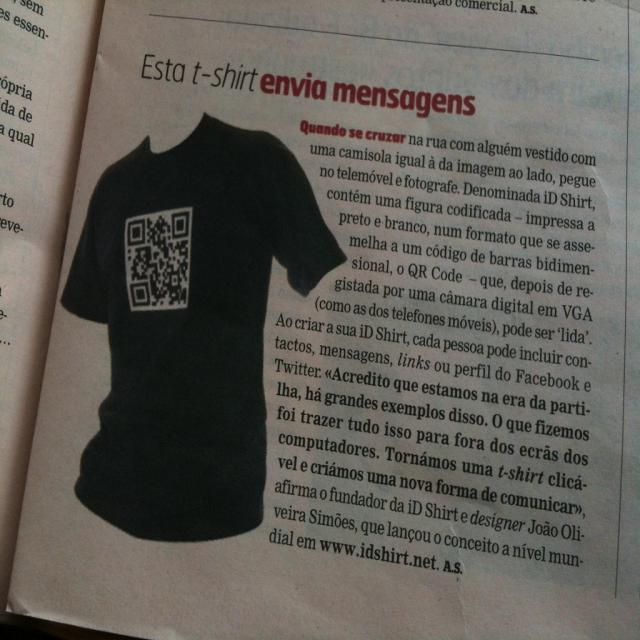qrcode: (129, 213, 190, 307)
